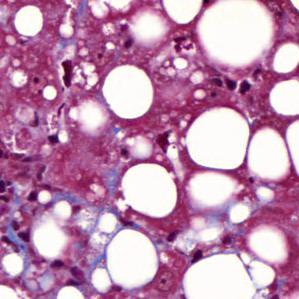steatosis: (181, 102, 249, 172), (101, 65, 159, 122), (120, 163, 179, 218)
